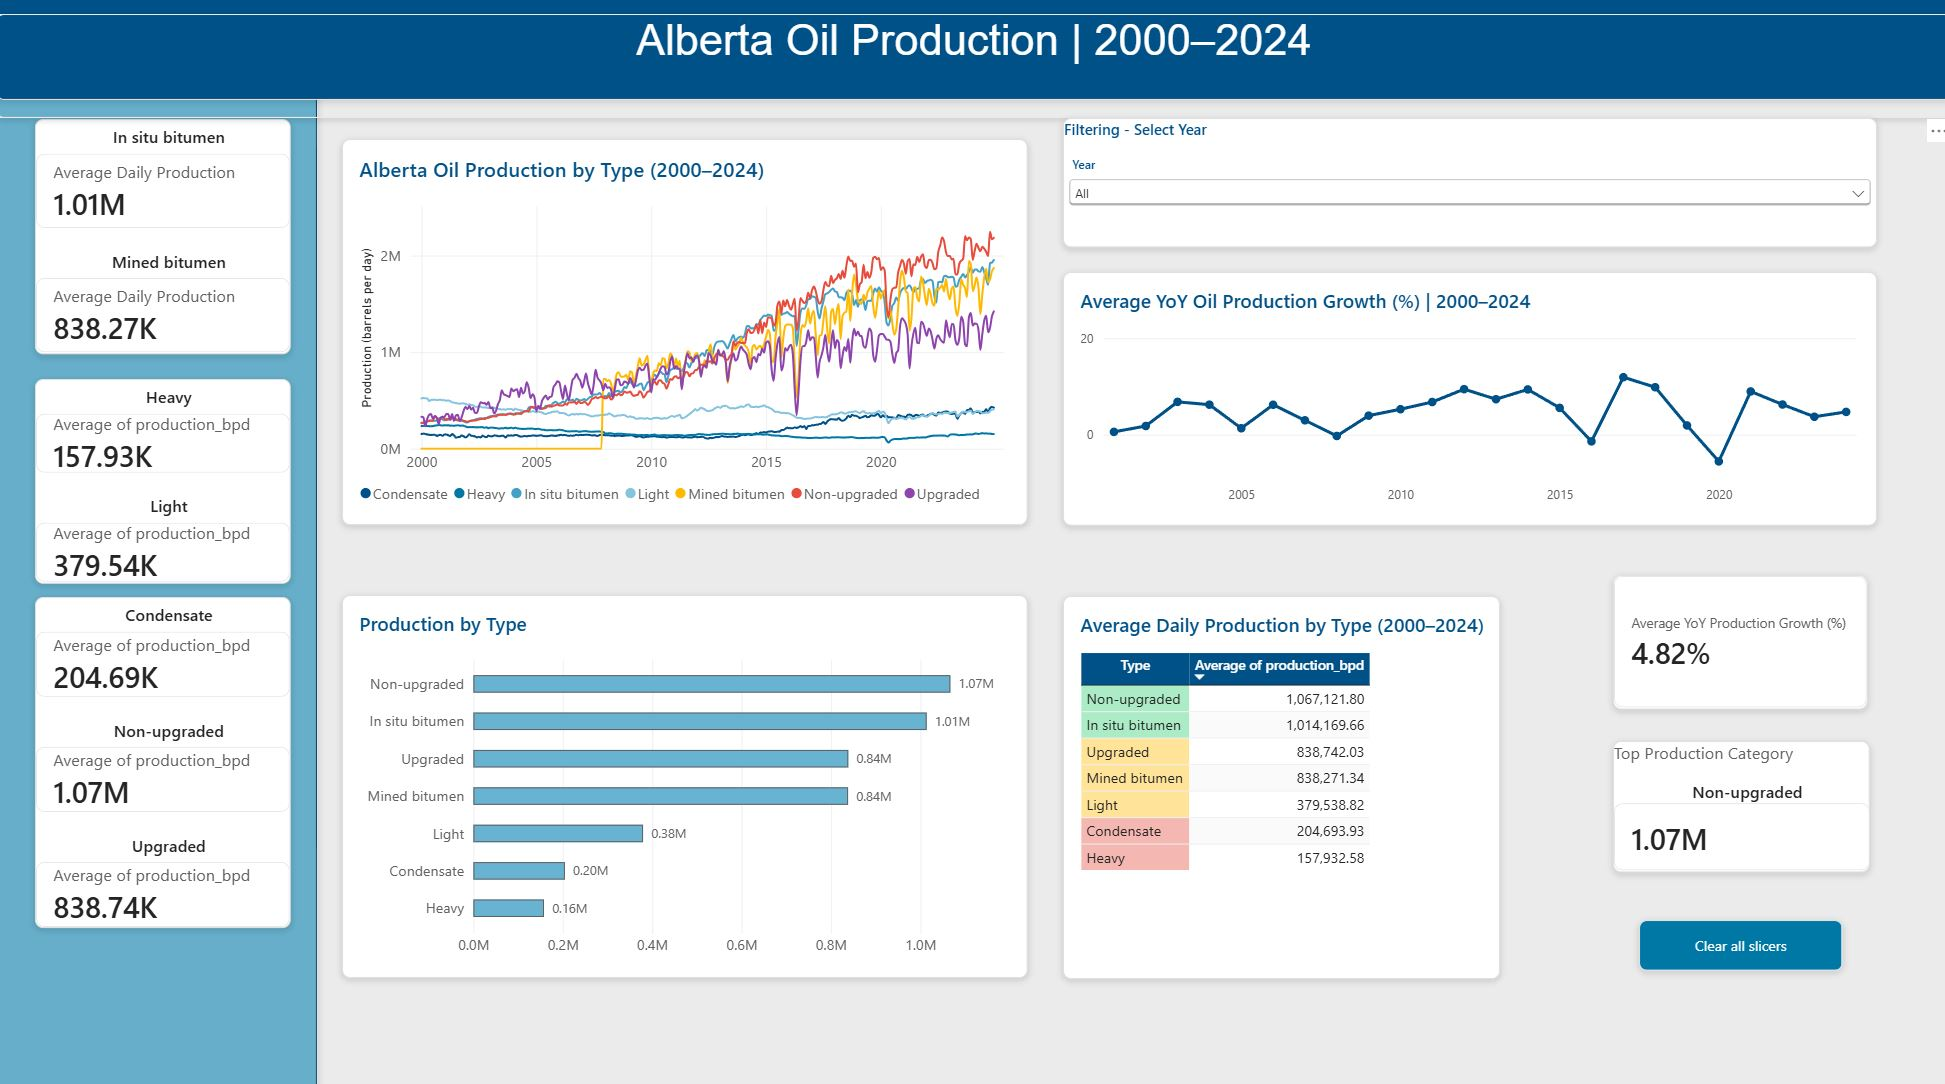

The dashboard page shown, as its layout file describes it:
{"tool":"powerbi","page":{"name":"Alberta Oil Production | 2000–2024","canvas":[1920,1080],"ordinal":0},"visuals":[{"type":"lineChart","title":"Alberta Oil Production by Type (2000–2024)","fields":{"Category":["job_aJ6CGziIpjoX6cFq0qVbWh0y_-Si.Date.Variation.Date Hierarchy.Year","job_aJ6CGziIpjoX6cFq0qVbWh0y_-Si.Date.Variation.Date Hierarchy.Quarter","job_aJ6CGziIpjoX6cFq0qVbWh0y_-Si.Date.Variation.Date Hierarchy.Month","job_aJ6CGziIpjoX6cFq0qVbWh0y_-Si.Date.Variation.Date Hierarchy.Day"],"Series":["job_aJ6CGziIpjoX6cFq0qVbWh0y_-Si.Type"],"Y":["Sum(job_aJ6CGziIpjoX6cFq0qVbWh0y_-Si.production_bpd)"]},"box":[339.5,140.7,672.8,379],"z":0},{"type":"shape","box":[0,0,316,1080.2],"z":1000},{"type":"actionButton","box":[1612.4,906.6,200,50],"z":2000},{"type":"shape","box":[0,0,1919.8,102.5],"z":3000},{"type":"cardVisual","fields":{"Data":["Avg(OilProduction.production_bpd)"],"Rows":["OilProduction.Type"]},"box":[38,375.8,251.2,200.5],"z":4000},{"type":"cardVisual","fields":{"Data":["OilProduction.Average Daily Production"],"Rows":["OilProduction.Type"]},"box":[38,120.3,251.2,231.2],"z":5000},{"type":"cardVisual","fields":{"Data":["Avg(OilProduction.yoy_growth_pct)"]},"box":[1587.5,567.9,250.2,131.9],"z":6000},{"type":"tableEx","title":"Average Daily Production by Type (2000–2024)","fields":{"Values":["OilProduction.Type","Avg(OilProduction.production_bpd)"]},"box":[1047.8,588.7,429.2,376.4],"z":7000},{"type":"textbox","box":[0,17.5,1920,102.4],"z":8000},{"type":"cardVisual","fields":{"Data":["Avg(OilProduction.production_bpd)"],"Rows":["OilProduction.Type"]},"box":[1587.5,731.5,252.3,128.8],"z":9000},{"type":"lineChart","title":"Average YoY Oil Production Growth (%) | 2000–2024","fields":{"Category":["OilProduction.Date.Variation.Date Hierarchy.Year"],"Y":["Avg(OilProduction.yoy_growth_pct)"]},"box":[1047.8,270.8,798.8,249],"z":10000},{"type":"barChart","title":"Production by Type","fields":{"Category":["OilProduction.Type"],"Y":["Avg(OilProduction.production_bpd)"]},"box":[339.7,588.2,673.1,375.9],"z":11000},{"type":"slicer","title":"Filtering -  Select Year","fields":{"Values":["OilProduction.Date.Variation.Date Hierarchy.Year"]},"box":[1047.8,119.4,798.8,127.4],"z":12000},{"type":"cardVisual","fields":{"Data":["Avg(OilProduction.production_bpd)"],"Rows":["OilProduction.Type"]},"box":[38,590,251.2,325.1],"z":13000}]}

Visuals, with their boxes in screenshot pixels (x1, y1, x2, y2), scaled from the page's 1920x1080 canvas onto the 1945x1084 screenshot:
"Alberta Oil Production by Type (2000–2024)" lineChart: x1=344 y1=141 x2=1025 y2=522
shape: x1=0 y1=0 x2=320 y2=1083
actionButton: x1=1633 y1=910 x2=1836 y2=960
shape: x1=0 y1=0 x2=1944 y2=103
cardVisual - Avg(OilProduction.production_bpd) x OilProduction.Type: x1=38 y1=377 x2=293 y2=578
cardVisual - OilProduction.Average Daily Production x OilProduction.Type: x1=38 y1=121 x2=293 y2=353
cardVisual - Avg(OilProduction.yoy_growth_pct): x1=1608 y1=570 x2=1862 y2=702
"Average Daily Production by Type (2000–2024)" tableEx: x1=1061 y1=591 x2=1496 y2=969
textbox: x1=0 y1=18 x2=1944 y2=120
cardVisual - Avg(OilProduction.production_bpd) x OilProduction.Type: x1=1608 y1=734 x2=1864 y2=863
"Average YoY Oil Production Growth (%) | 2000–2024" lineChart: x1=1061 y1=272 x2=1871 y2=522
"Production by Type" barChart: x1=344 y1=590 x2=1026 y2=968
"Filtering -  Select Year" slicer: x1=1061 y1=120 x2=1871 y2=248
cardVisual - Avg(OilProduction.production_bpd) x OilProduction.Type: x1=38 y1=592 x2=293 y2=918
